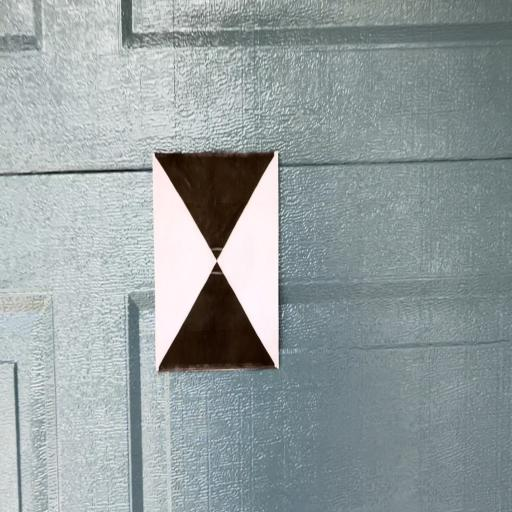target: (153, 154, 279, 368)
